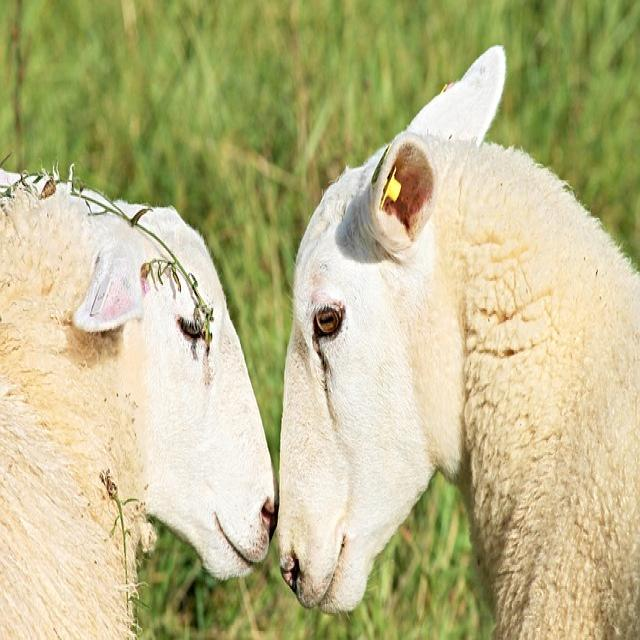goat: (274, 47, 640, 640), (0, 168, 279, 640)
